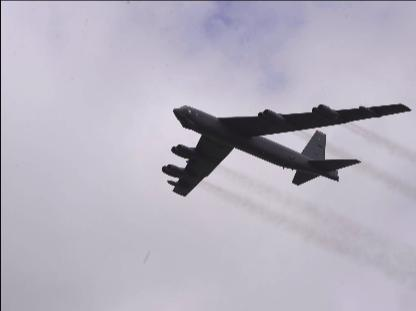B2: (160, 102, 410, 196)
